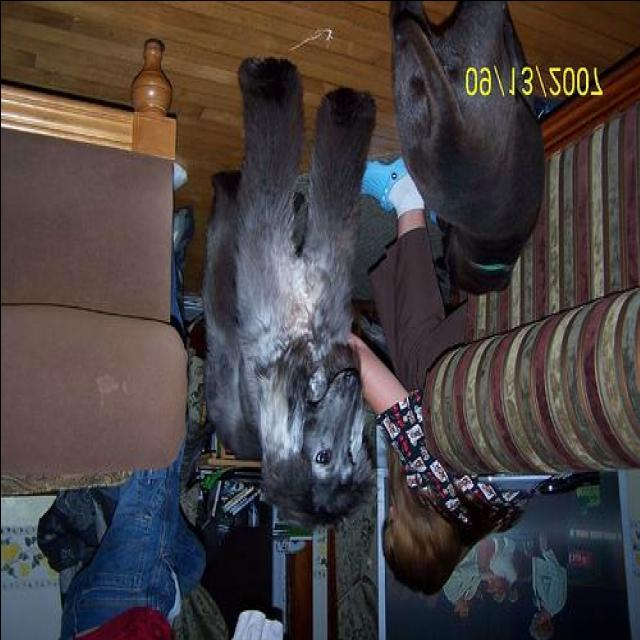afghan_hound: (200, 54, 384, 524)
